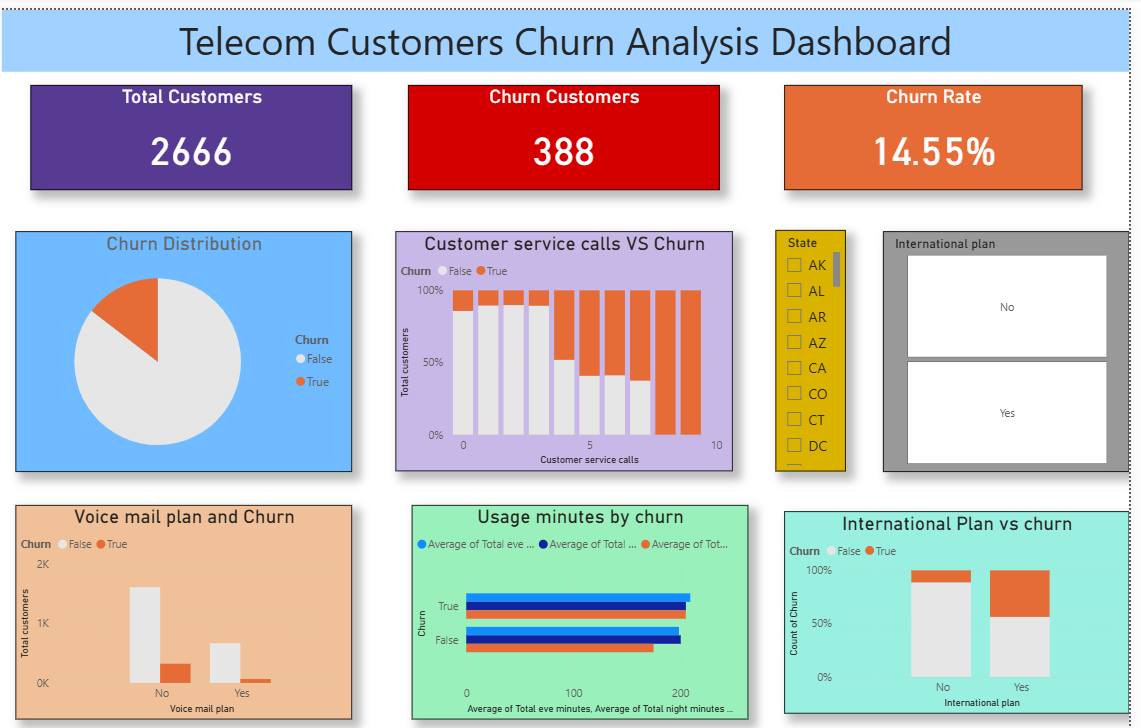

Layout of this report page (visuals, bound fields, positions):
{"tool":"powerbi","page":{"name":"Page 1","canvas":[1280,850],"ordinal":0},"visuals":[{"type":"textbox","box":[9.6,0,1270.7,70],"z":0},{"type":"card","title":"Total Customers","fields":{"Values":["Churn_Measures.Total customers"]},"box":[41.7,84.7,362.5,118.1],"z":1000},{"type":"card","title":"Churn Customers","fields":{"Values":["Churn_Measures.Churn Customers"]},"box":[468.1,84.7,351.4,118.1],"z":2000},{"type":"card","title":"Churn Rate","fields":{"Values":["Churn_Measures.Churn Rate"]},"box":[891.7,84.7,336.1,118.1],"z":3000},{"type":"pieChart","title":"Churn Distribution","fields":{"Category":["Telecom_Churn.Churn"],"Y":["CountNonNull(Telecom_Churn.Churn)"]},"box":[25,248.6,379.2,270.8],"z":4000},{"type":"hundredPercentStackedColumnChart","title":"Customer service calls VS Churn","fields":{"Category":["Telecom_Churn.Customer service calls"],"Y":["Churn_Measures.Total customers"],"Series":["Telecom_Churn.Churn"]},"box":[453.5,249.3,380.3,270.4],"z":5000},{"type":"clusteredColumnChart","title":" Voice mail plan and Churn","fields":{"Category":["Telecom_Churn.Voice mail plan"],"Y":["Churn_Measures.Total customers"],"Series":["Telecom_Churn.Churn"]},"box":[25,558.3,379.2,241.7],"z":6000},{"type":"clusteredBarChart","title":"Usage minutes by churn","fields":{"Category":["Telecom_Churn.Churn"],"Y":["Avg(Telecom_Churn.Total eve minutes)","Avg(Telecom_Churn.Total night minutes)","Avg(Telecom_Churn.Total day minutes)"]},"box":[472.2,558.3,379.2,241.7],"z":7000},{"type":"hundredPercentStackedColumnChart","title":"International Plan vs churn","fields":{"Category":["Telecom_Churn.International plan"],"Y":["CountNonNull(Telecom_Churn.Churn)"],"Series":["Telecom_Churn.Churn"]},"box":[891.7,565.3,388.9,227.8],"z":8000},{"type":"slicer","fields":{"Values":["Telecom_Churn.State"]},"box":[881.7,247.9,78.9,271.8],"z":9000},{"type":"slicer","fields":{"Values":["Telecom_Churn.International plan"]},"box":[1002.8,248.6,277.8,270.8],"z":10000}]}

Visuals, with their boxes in screenshot pixels (x1, y1, x2, y2):
textbox: {"x1": 8, "y1": 0, "x2": 1121, "y2": 35}
"Total Customers" card: {"x1": 37, "y1": 47, "x2": 354, "y2": 151}
"Churn Customers" card: {"x1": 410, "y1": 47, "x2": 718, "y2": 151}
"Churn Rate" card: {"x1": 781, "y1": 47, "x2": 1075, "y2": 151}
"Churn Distribution" pieChart: {"x1": 22, "y1": 191, "x2": 354, "y2": 428}
"Customer service calls VS Churn" hundredPercentStackedColumnChart: {"x1": 397, "y1": 192, "x2": 730, "y2": 428}
" Voice mail plan and Churn" clusteredColumnChart: {"x1": 22, "y1": 462, "x2": 354, "y2": 674}
"Usage minutes by churn" clusteredBarChart: {"x1": 413, "y1": 462, "x2": 746, "y2": 674}
"International Plan vs churn" hundredPercentStackedColumnChart: {"x1": 781, "y1": 468, "x2": 1121, "y2": 668}
slicer - Telecom_Churn.State: {"x1": 772, "y1": 190, "x2": 841, "y2": 428}
slicer - Telecom_Churn.International plan: {"x1": 878, "y1": 191, "x2": 1121, "y2": 428}
